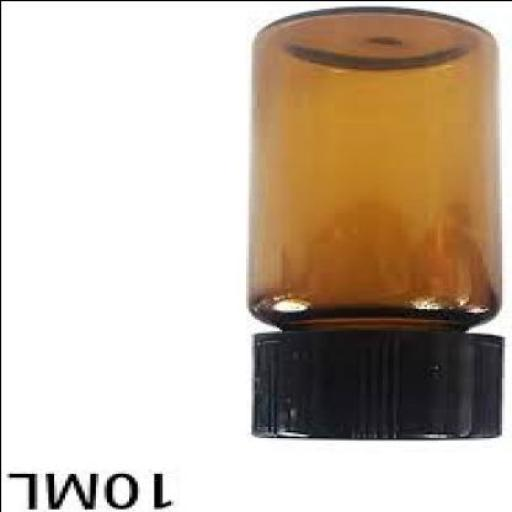glass: (248, 8, 504, 332)
plastic: (253, 332, 506, 441)
